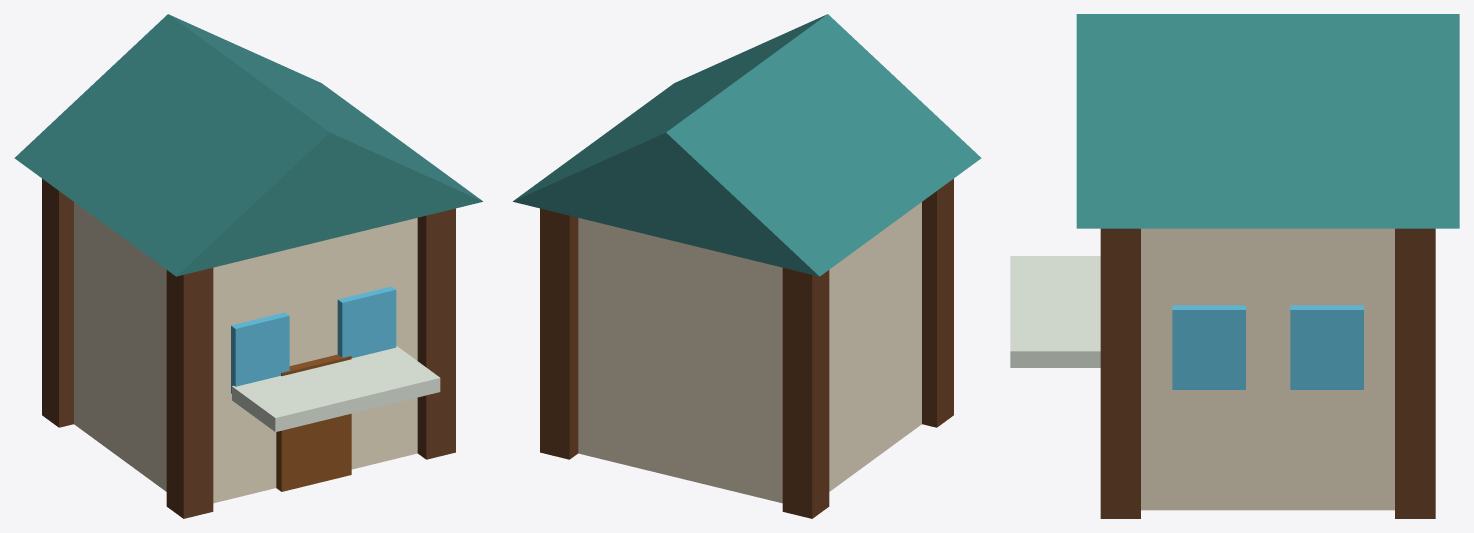
File: kiosk.glb
3 views of the same model, side by side, from view 1: azimuth 30°, elevation 25°; view 2: azimuth 150°, elevation 25°; view 3: azimuth 270°, elevation 25° (orthographic). The views are drawn at different scales.
Visible parts, largest first — view 1: awning; view 2: awning; view 3: awning.
Part boxes in pixels (<box>): awning: <box>14,14,482,518</box>; awning: <box>513,14,981,518</box>; awning: <box>1010,14,1459,518</box>.
Size of the model in its own units: 1.14 by 1.28 by 1.22.
